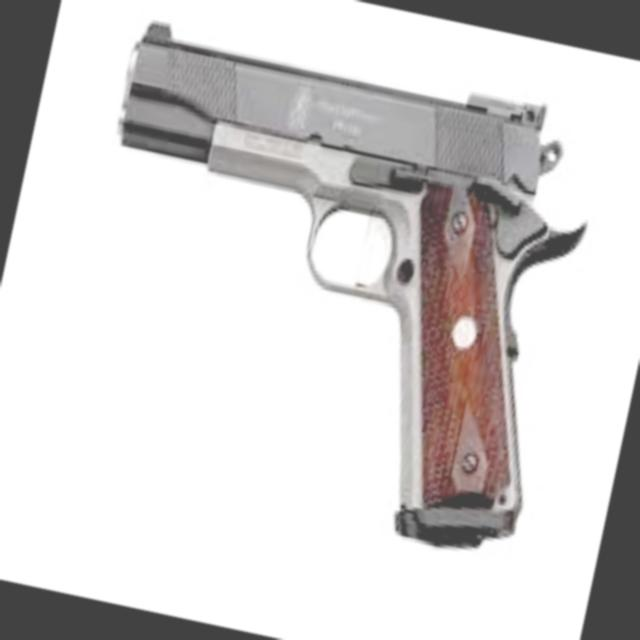semi automatic: (15, 0, 640, 591)
